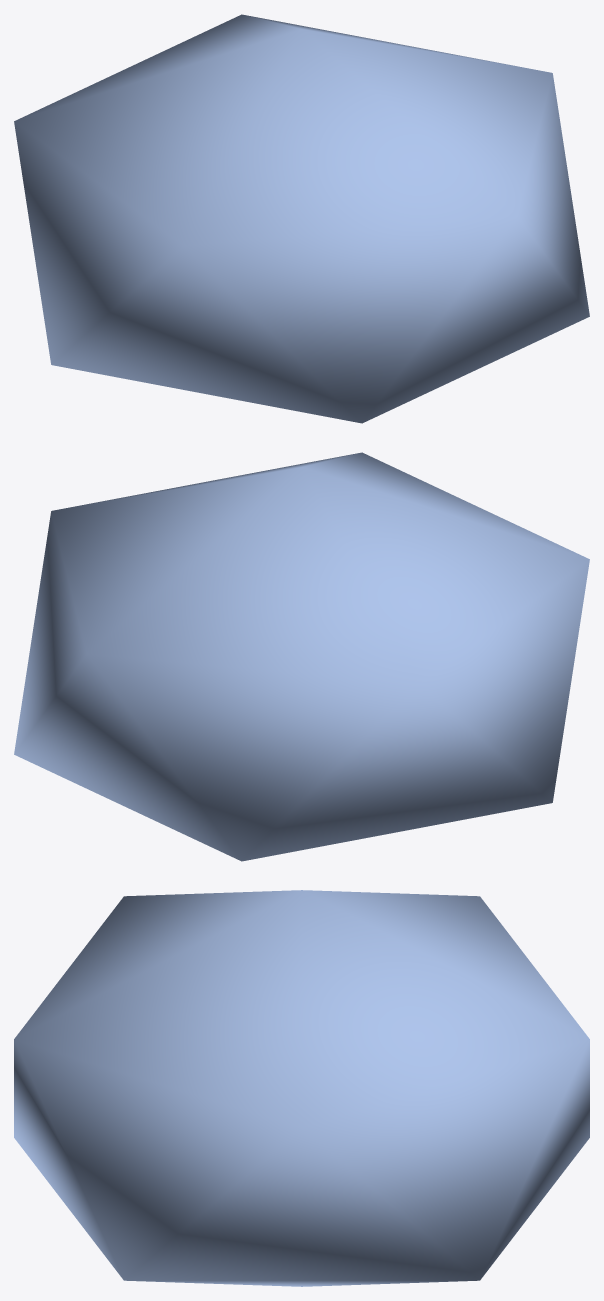
The model's file is Rock.glb.
The picture shows the model from 3 angles, top to bottom: view 1: azimuth 30°, elevation 25°; view 2: azimuth 150°, elevation 25°; view 3: azimuth 270°, elevation 25°; orthographic projection. The views are drawn at different scales.
Parts seen in each view (by area): view 1: Icosphere; view 2: Icosphere; view 3: Icosphere.
Part boxes in pixels (box(x1,y1,x2,y2)): Icosphere: box(14, 14, 589, 423); Icosphere: box(14, 452, 589, 861); Icosphere: box(14, 890, 589, 1286).
Size of the model in its own units: 1.79 by 1.29 by 1.7.
